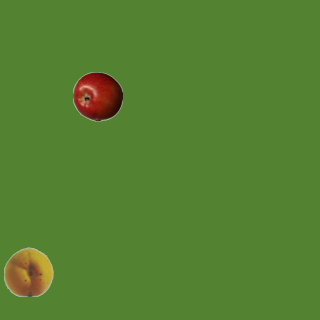Apple Braeburn: (72, 71, 122, 121)
Peach 2: (3, 246, 53, 296)
